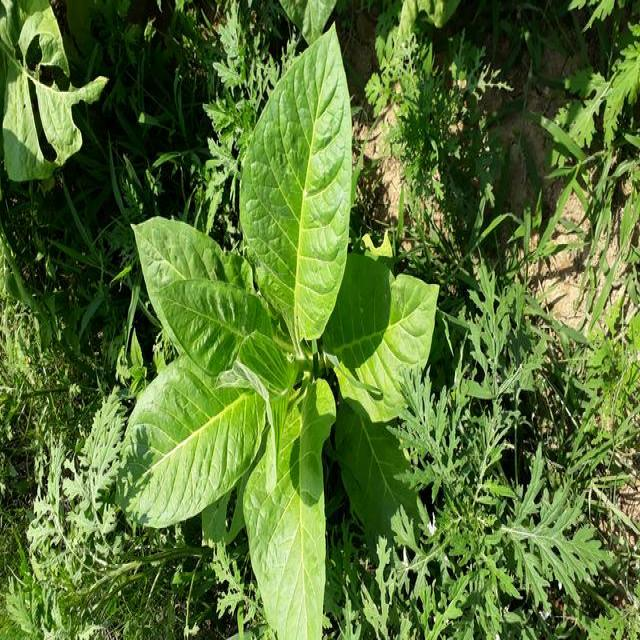crop: (111, 16, 439, 640)
